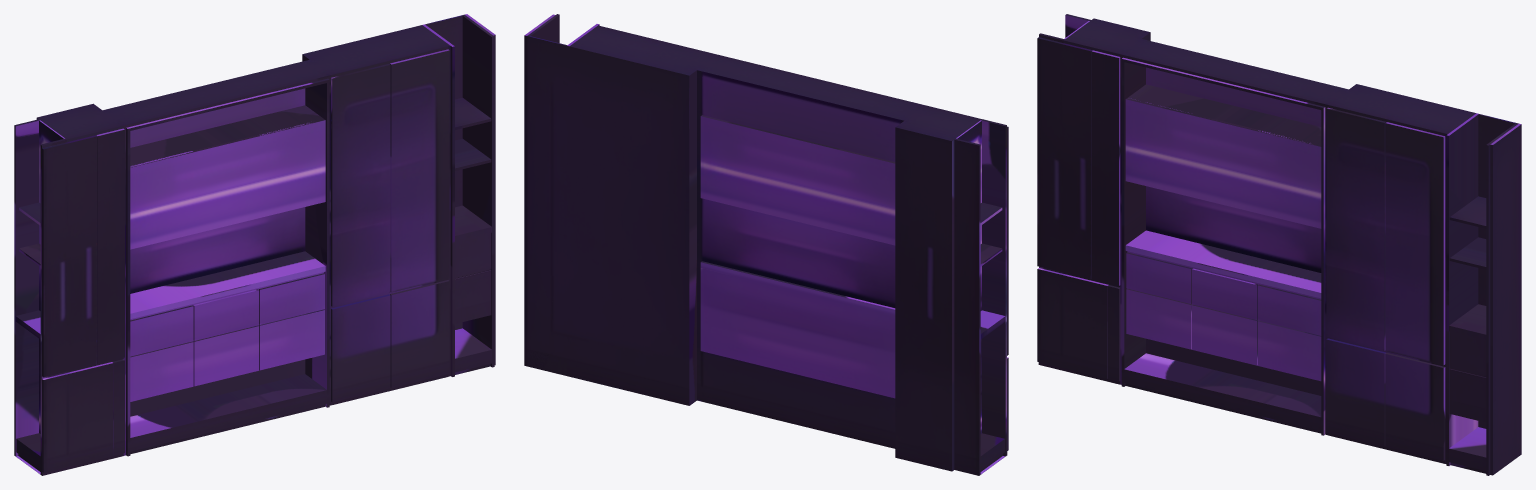
The model's file is edited_mesh.glb.
3 views of the same model, side by side, from view 1: azimuth 30°, elevation 25°; view 2: azimuth 150°, elevation 25°; view 3: azimuth 330°, elevation 25° (orthographic).
Visible parts, largest first — view 1: solid_001_wire; view 2: solid_001_wire; view 3: solid_001_wire.
Part boxes in pixels (x1,y1,x2,y2): solid_001_wire: [14, 14, 495, 475]; solid_001_wire: [524, 14, 1008, 475]; solid_001_wire: [1037, 14, 1521, 475].
Bounding box in the file's own units: 1.67 × 1.16 × 0.2019.
Materials: 1 (1 with a texture image).
